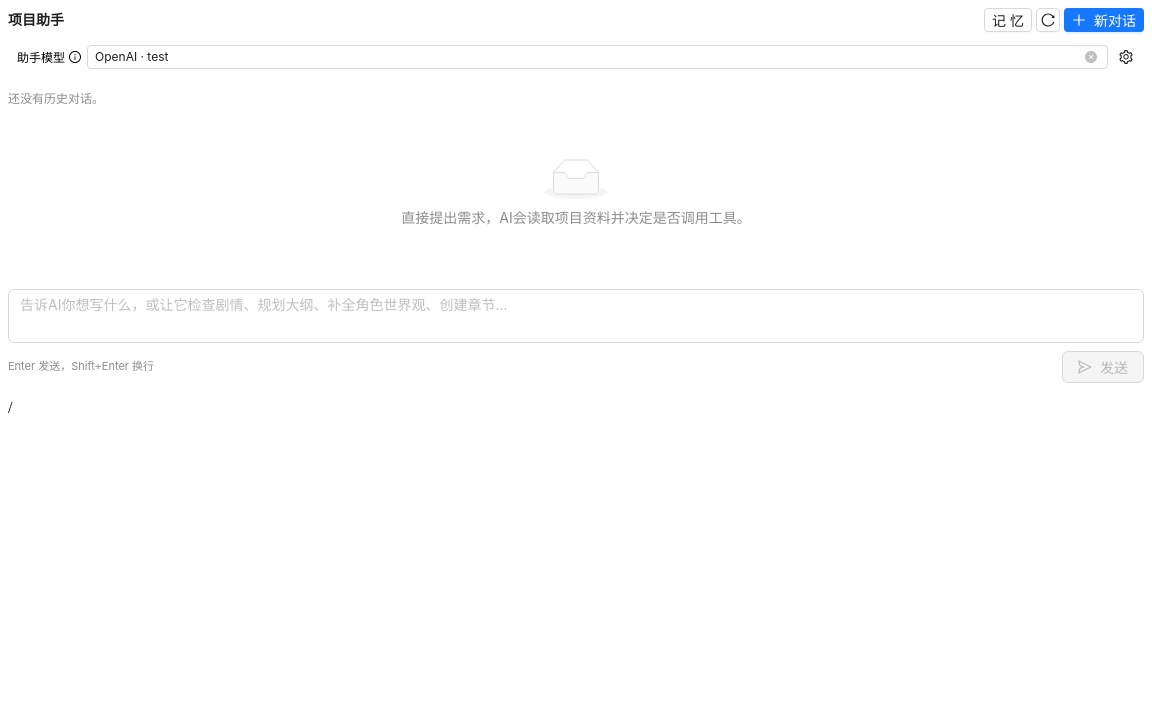
Test case: WorkspaceAssistantChat cancellation and recovery › reconciles a 409 cancellation response instead of showing a false failure
In the text box with placeholder "告诉AI你想写什么，或让它检查剧情、规划大纲、补全角色世界观、创建章节...": (576, 316) x1=8 y1=289 x2=1144 y2=343, type "写第一章"
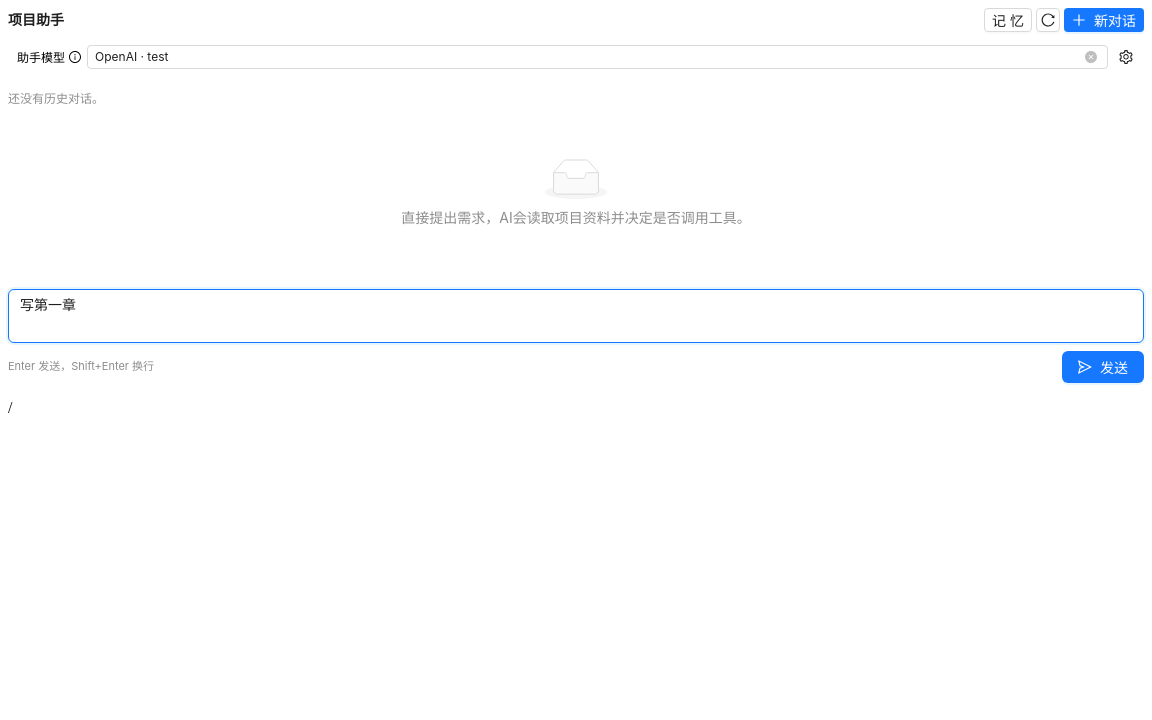
Click the button "发送": (1103, 367) x1=1062 y1=351 x2=1144 y2=383
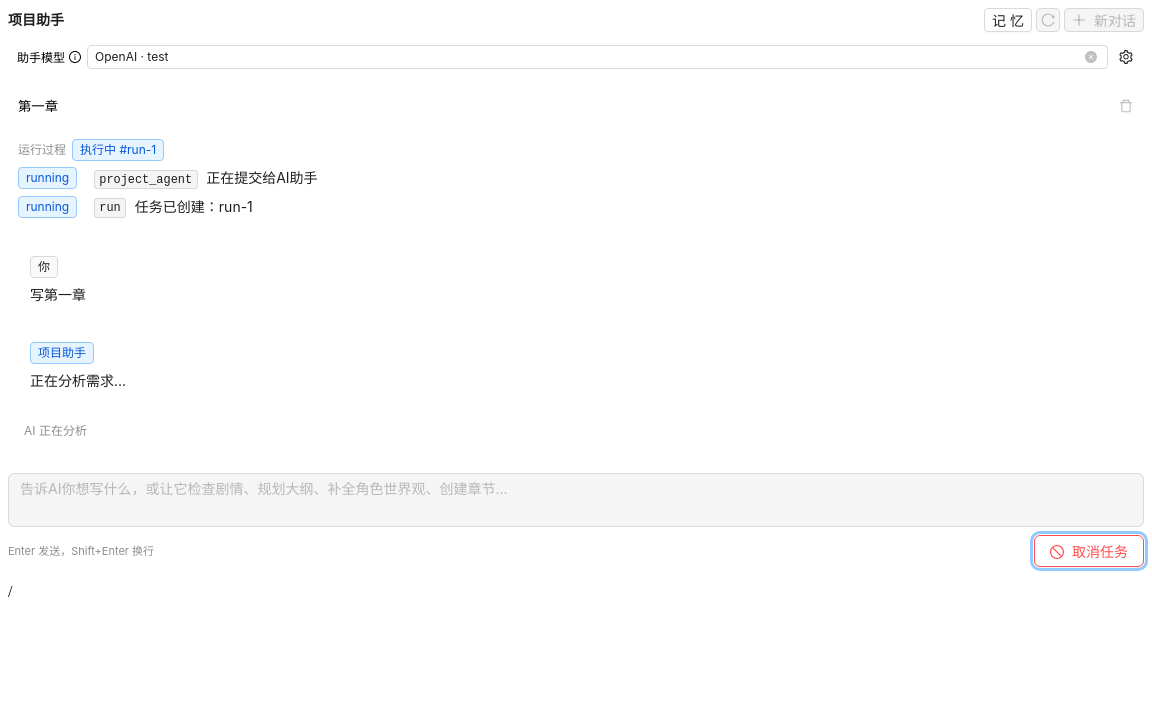
Expected: the text "任务已创建：run-1" is shown, x1=135 y1=196 x2=253 y2=218
Click the button with aria-label "取消当前任务": (1089, 551) x1=1034 y1=535 x2=1144 y2=567
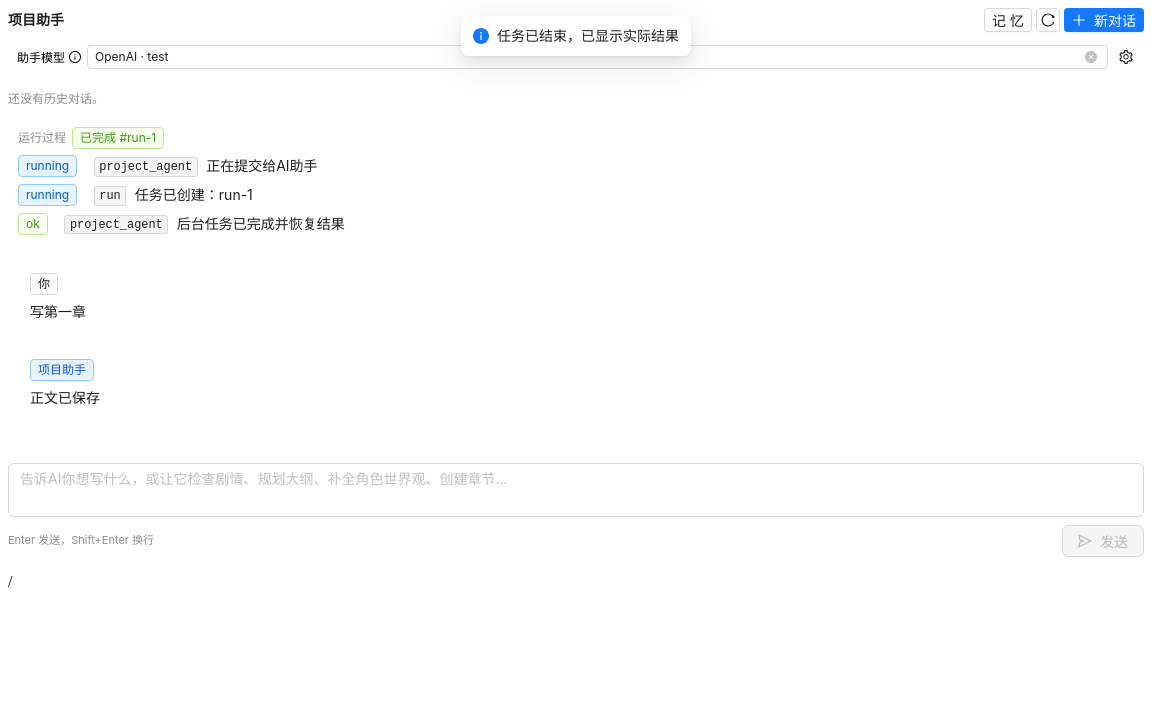
Expected: the text "正文已保存" is shown, x1=30 y1=389 x2=100 y2=406
